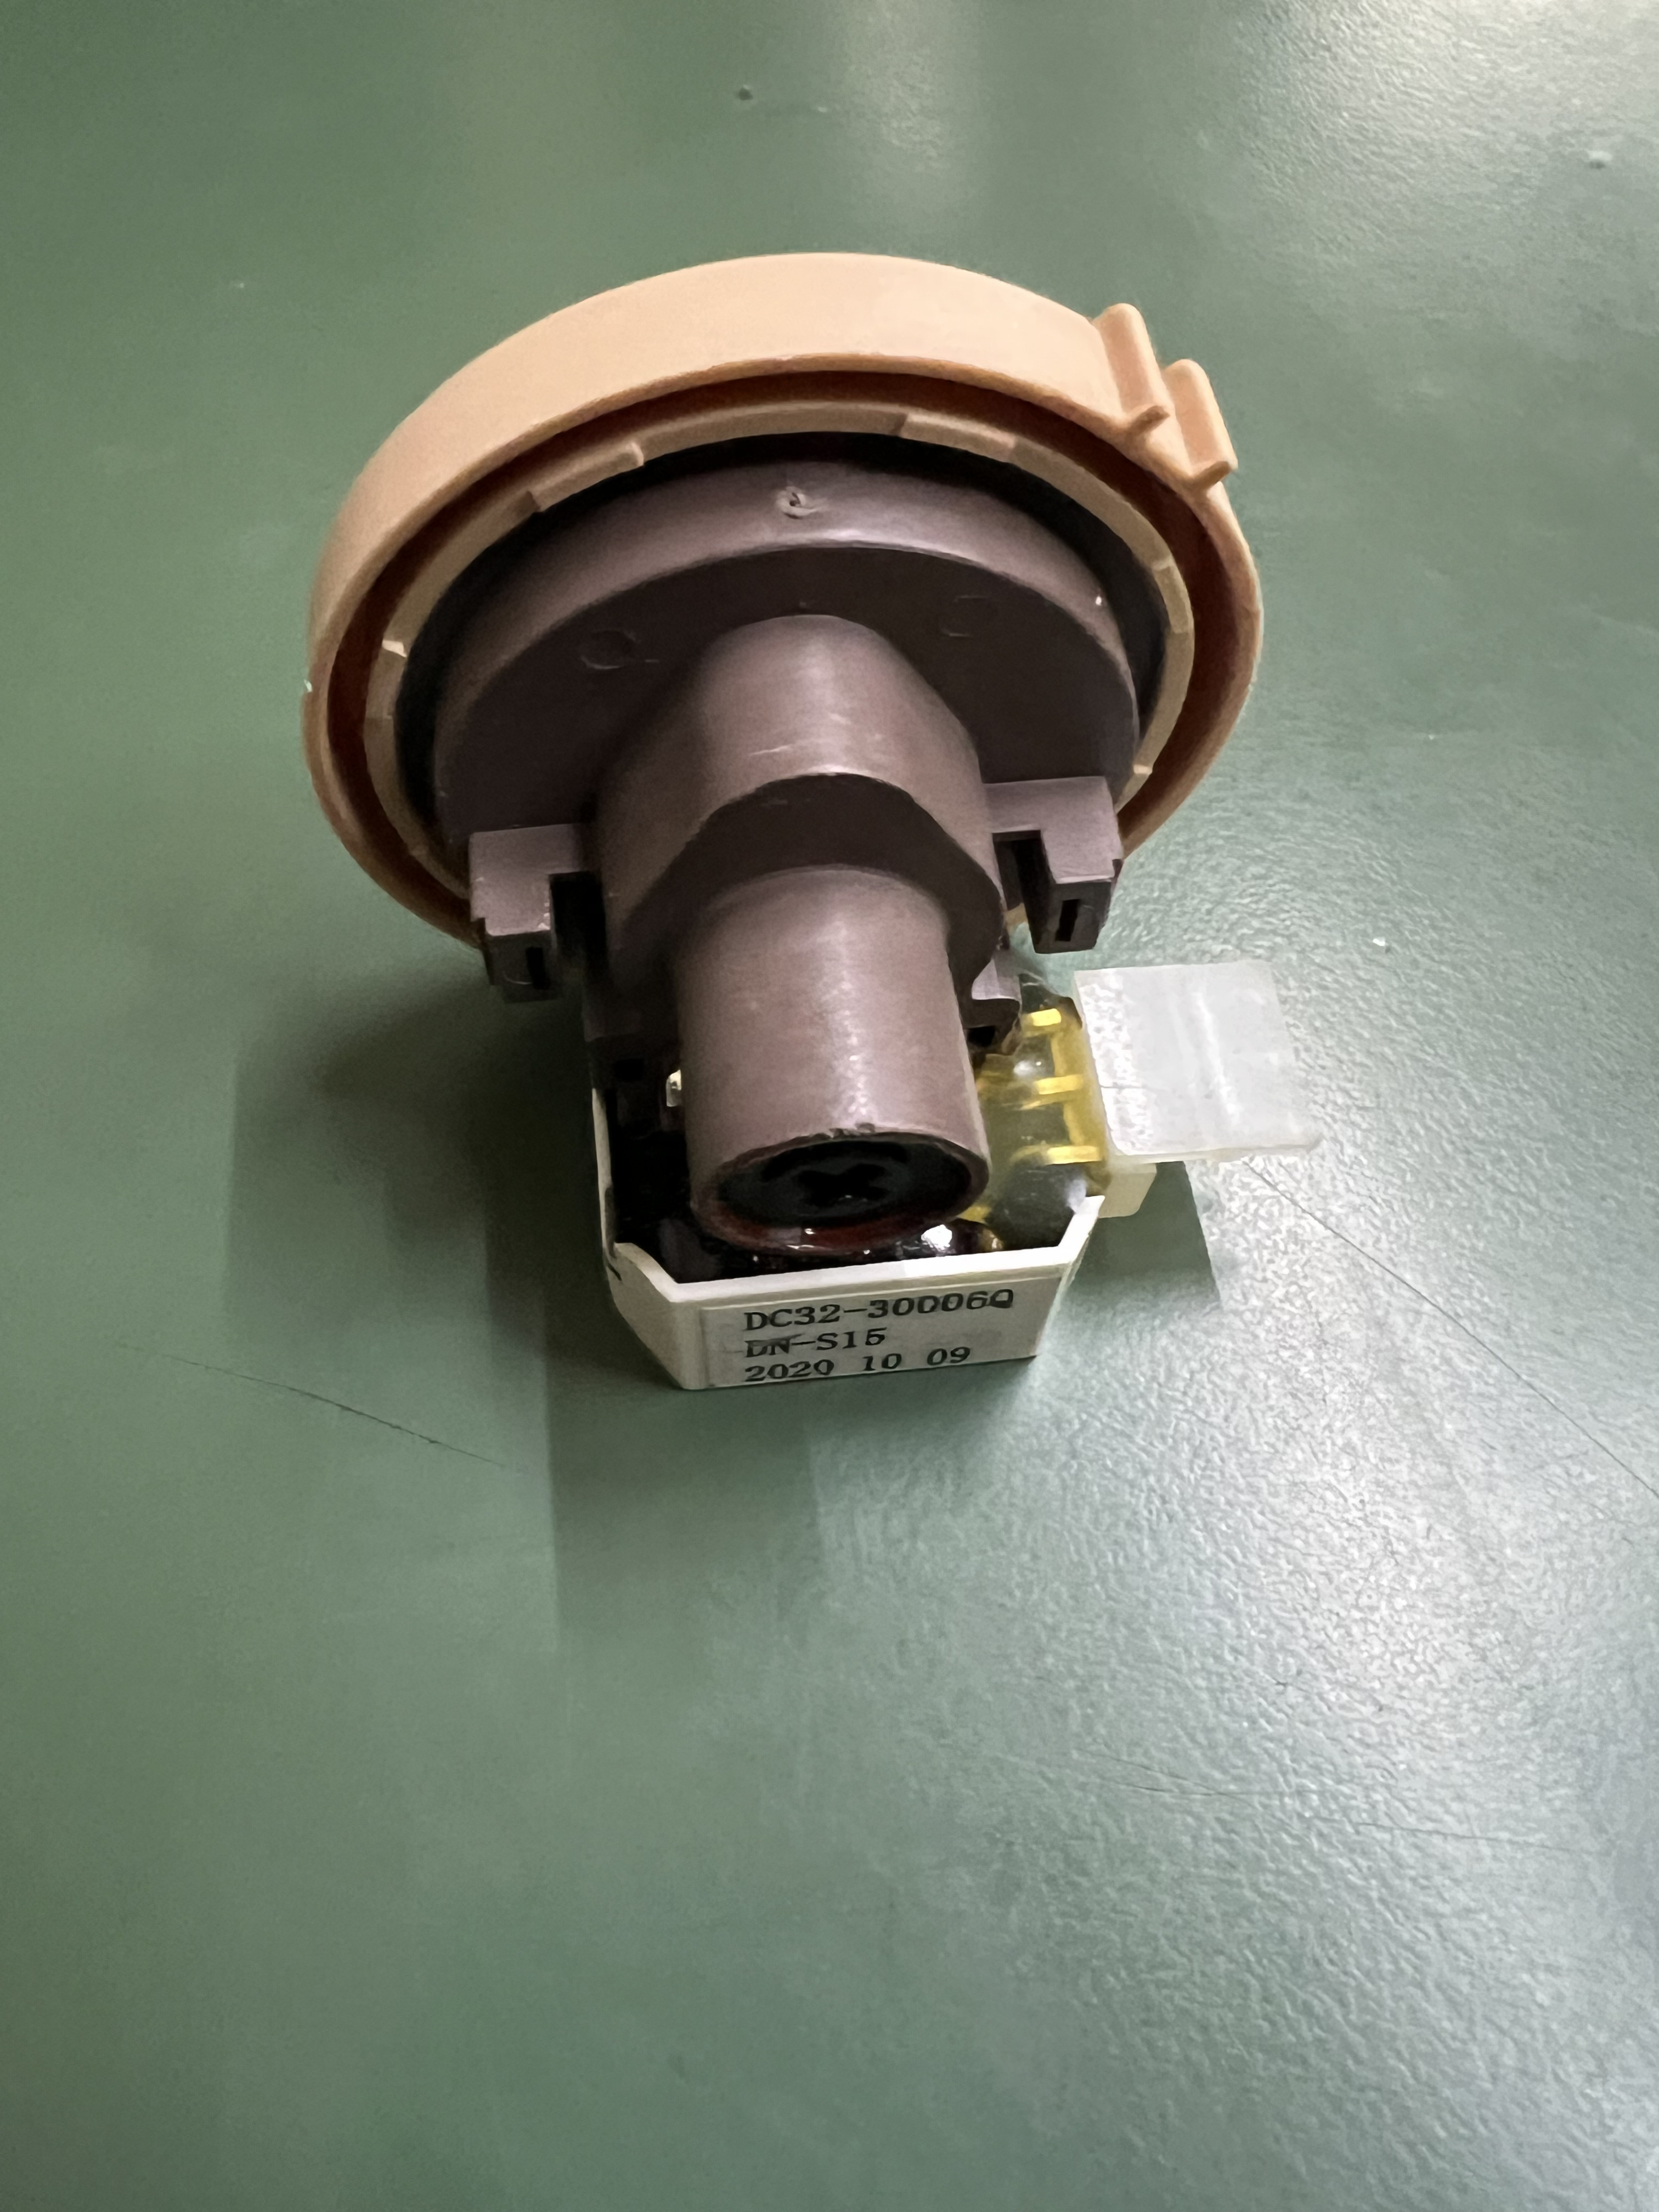pressure_sensor: (284, 226, 1354, 1399)
